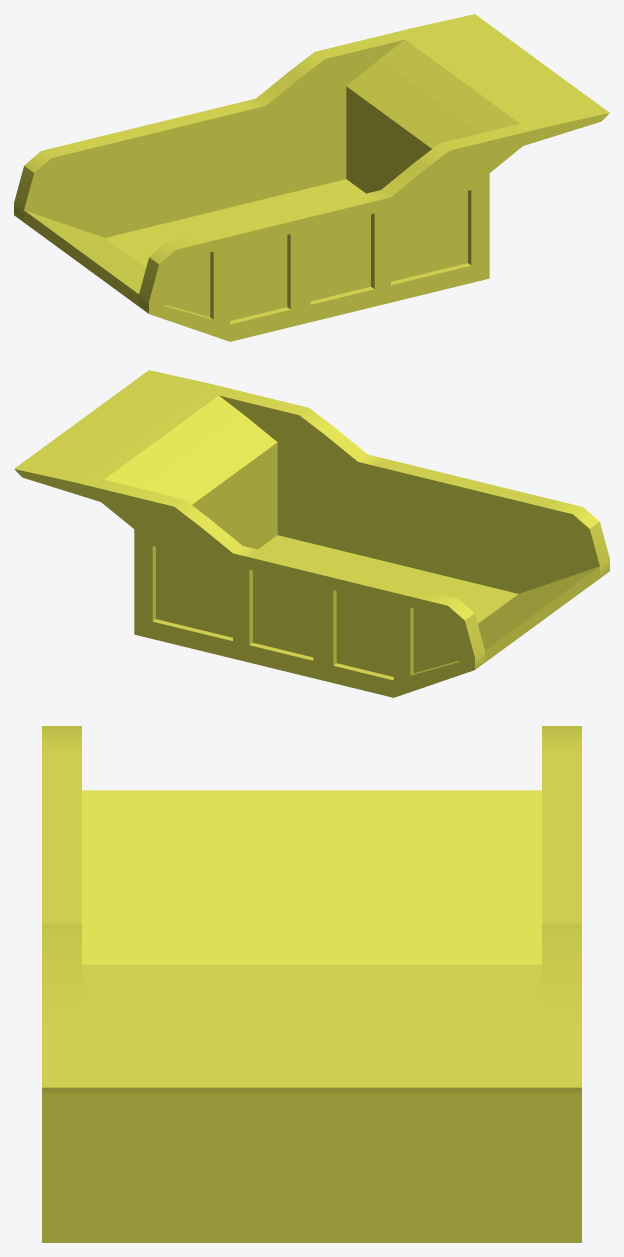
The model's file is PickupTruckBed.fbx.
The picture shows the model from 3 angles, top to bottom: view 1: azimuth 30°, elevation 25°; view 2: azimuth 150°, elevation 25°; view 3: azimuth 270°, elevation 25°; orthographic projection. The views are drawn at different scales.
Visible parts, largest first — view 1: backbed; view 2: backbed; view 3: backbed.
Boxes of the visible parts, x1,y1,x2,y2 form: backbed: (14, 14, 609, 341); backbed: (14, 370, 609, 697); backbed: (42, 726, 581, 1242).
Bounding box in the file's own units: 16.66 × 4.75 × 8.45.
